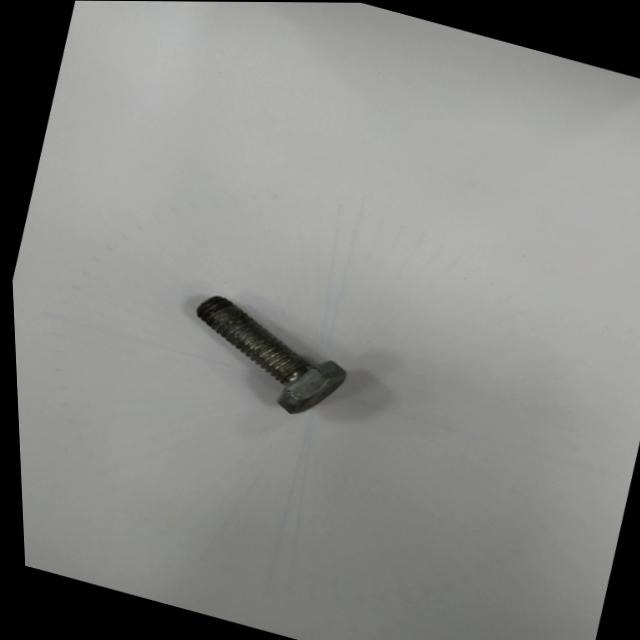Bolt: (193, 295, 342, 413)
